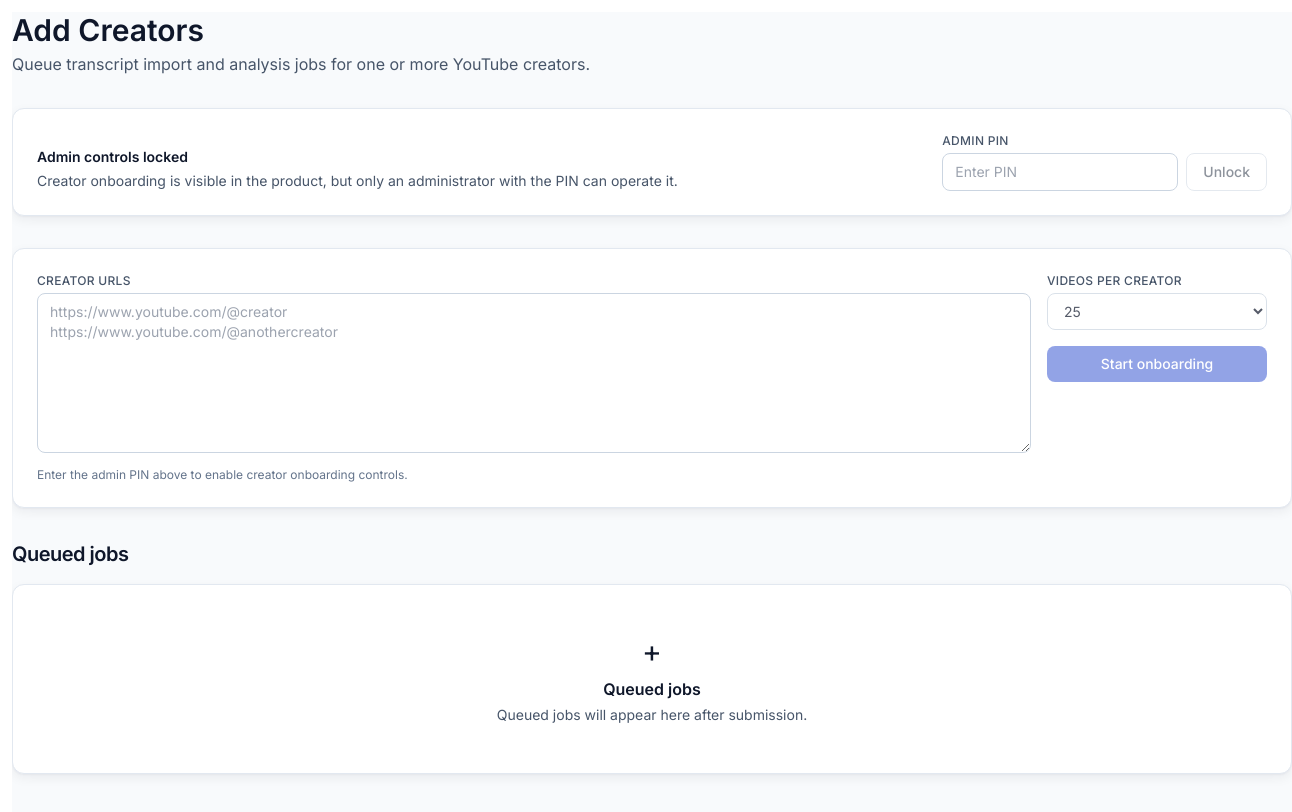
Test: AddCreatorsPage › shows the report reset panel only after unlock and posts with the admin PIN
The width and height of the screenshot is (1292, 812).
expect the button "Reset all reports" is not shown: met
Type "2468" into the password field labelled "Admin PIN" at (1060, 172), box 942,153 -> 1178,191
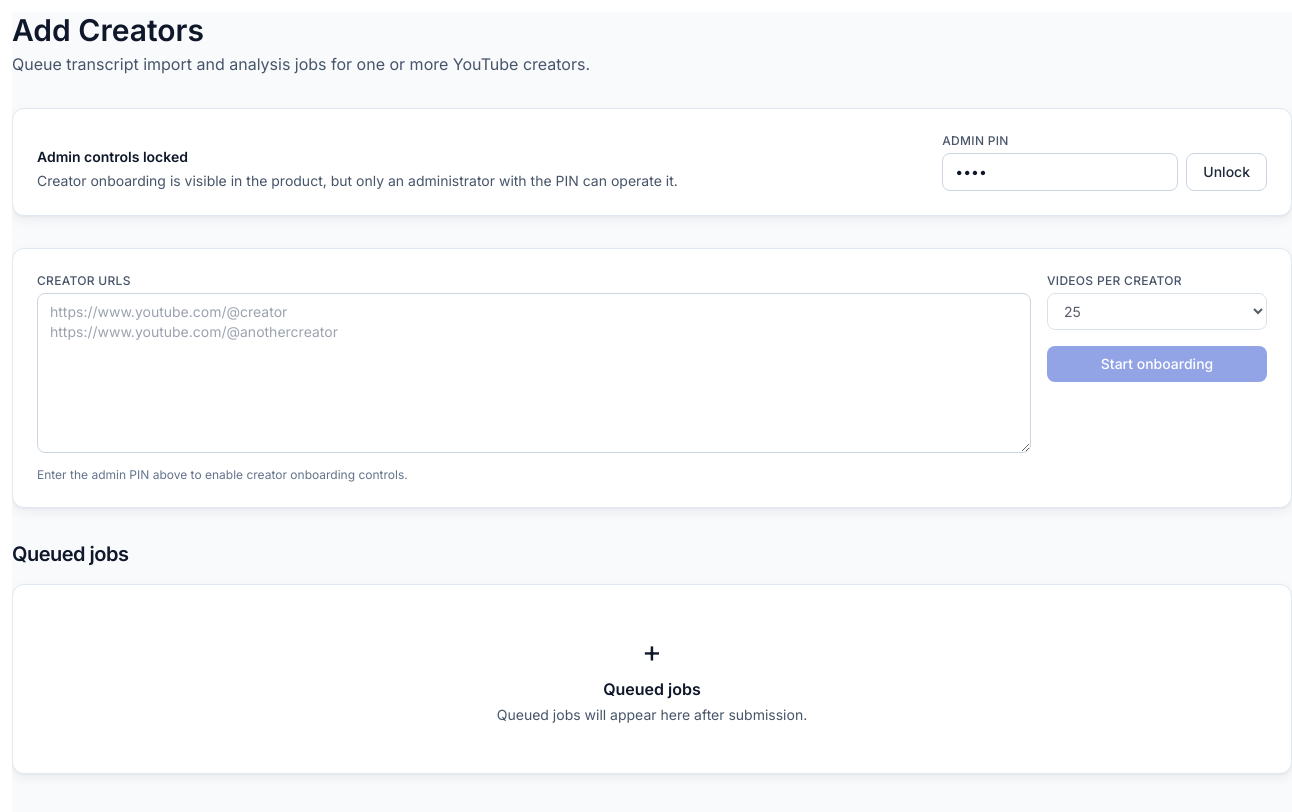
Click the button "Unlock" at (1227, 172), box 1186,153 -> 1267,191
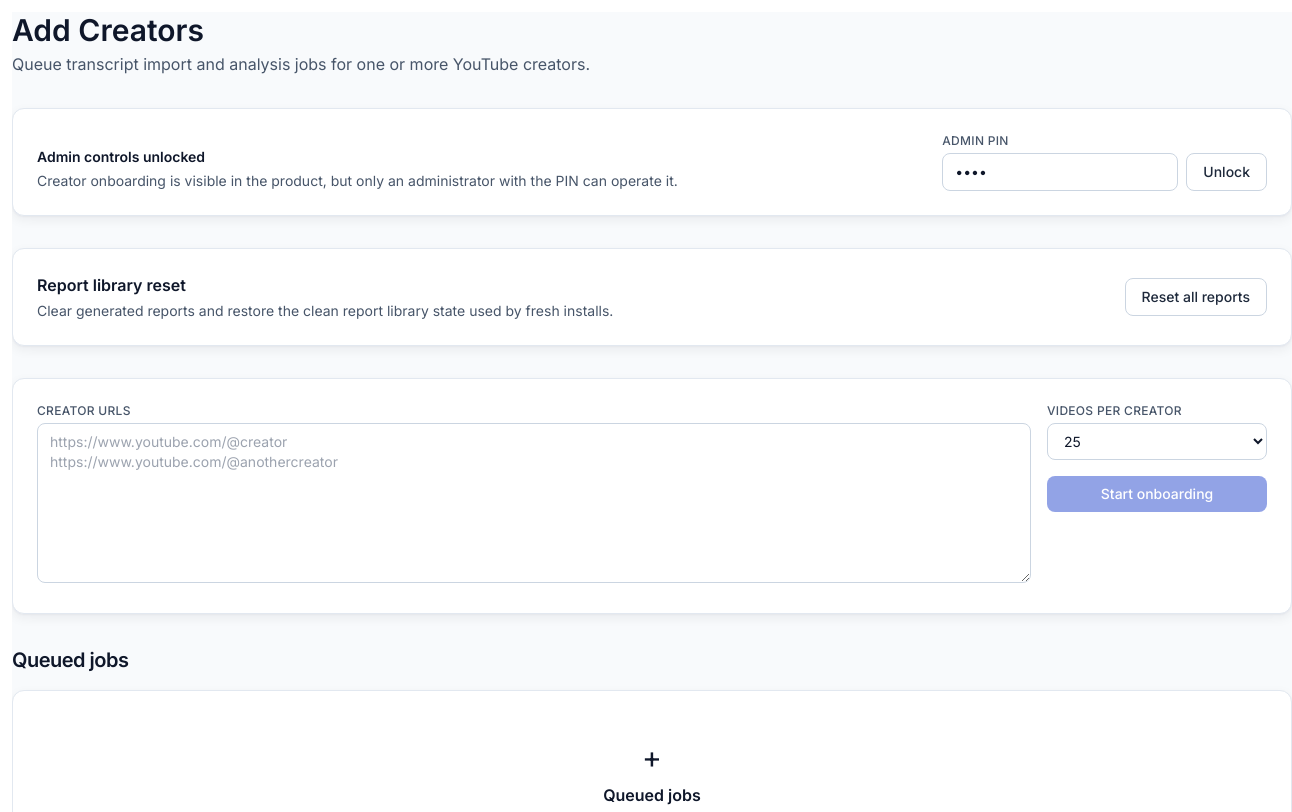
Click the button "Reset all reports" at (1196, 297), box 1125,278 -> 1267,316
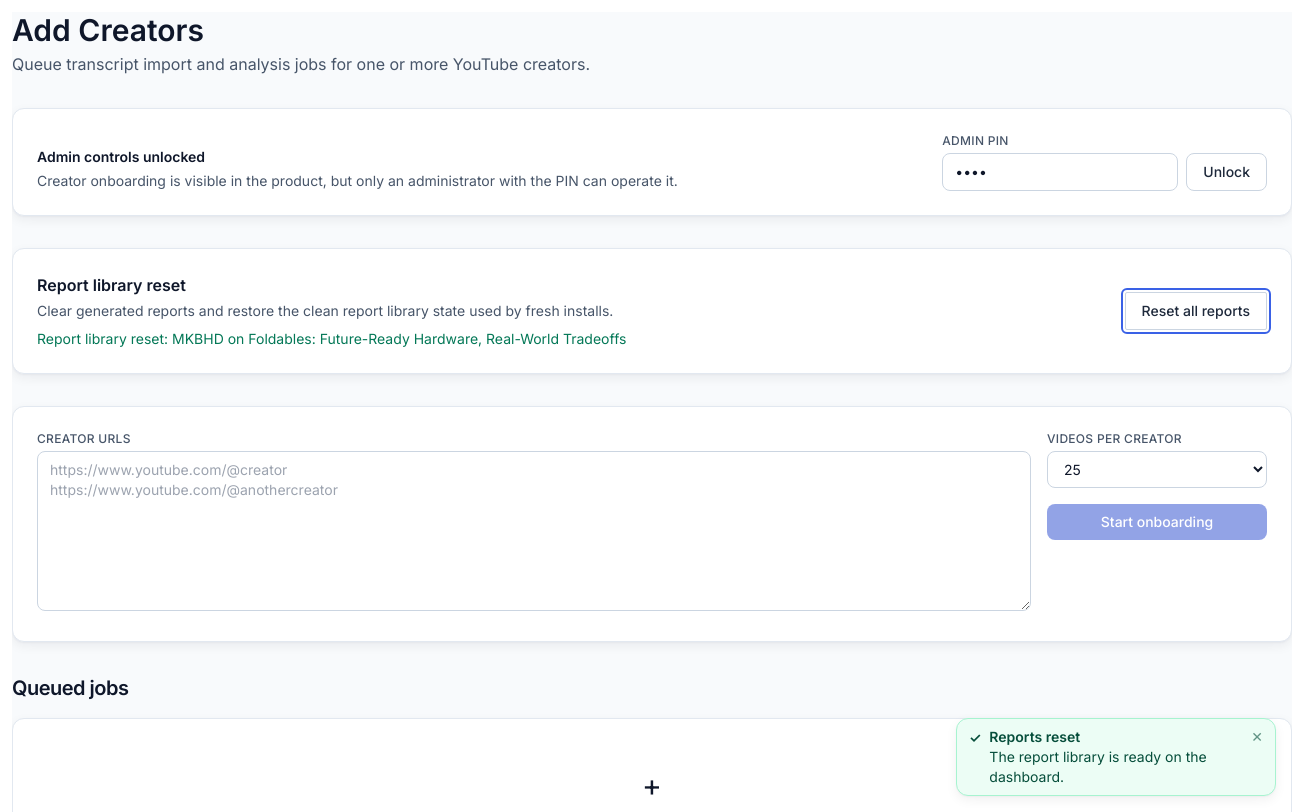
expect the text "Report library reset: MKBHD on Foldables: Future-Ready Hardware, Real-World Tradeoffs" is shown: met, box 37,330 -> 626,347
